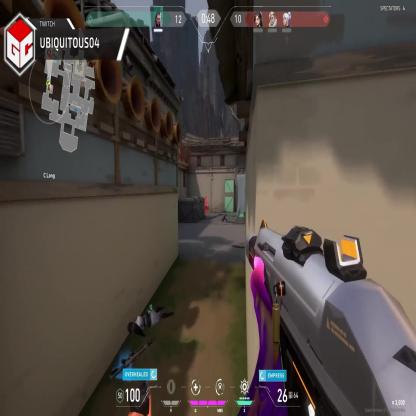enemy: (204, 196, 209, 216)
enemy_head: (205, 196, 208, 202)
